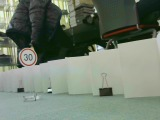speed_30: (18, 47, 37, 67)
